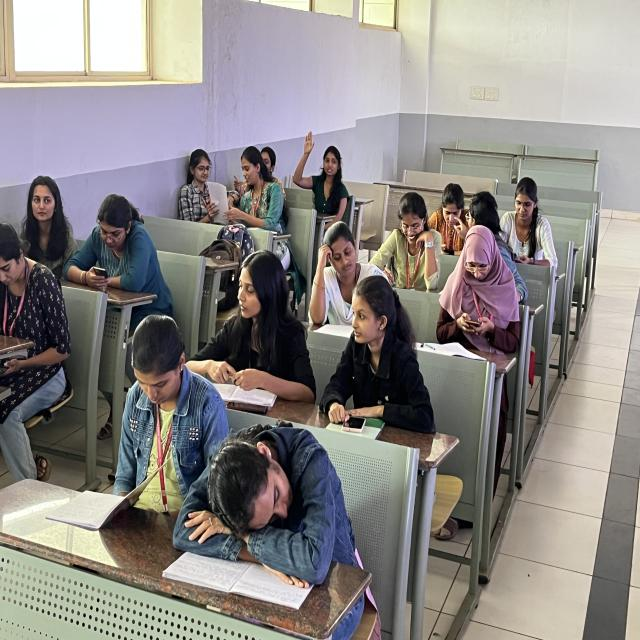Hand Rising: (297, 119, 346, 213)
Reading: (304, 217, 386, 327), (380, 200, 460, 290), (215, 136, 284, 236), (186, 145, 240, 233)
Sleeping: (163, 407, 370, 609)
Using Phone: (105, 301, 219, 510), (435, 225, 525, 358), (69, 188, 169, 306)
